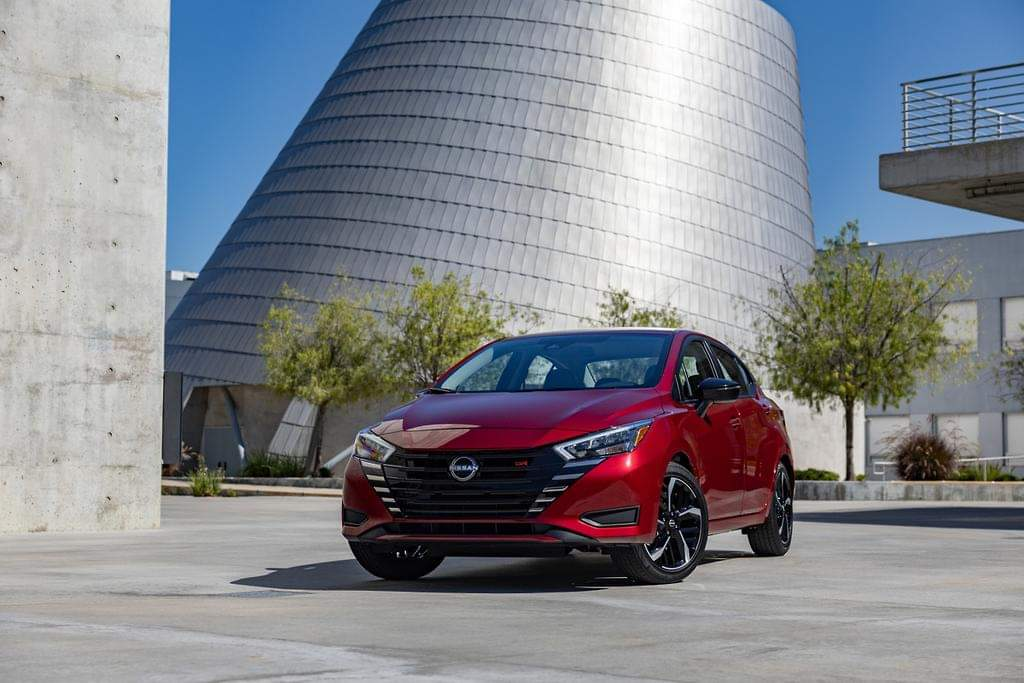Auto: (339, 330, 796, 587)
